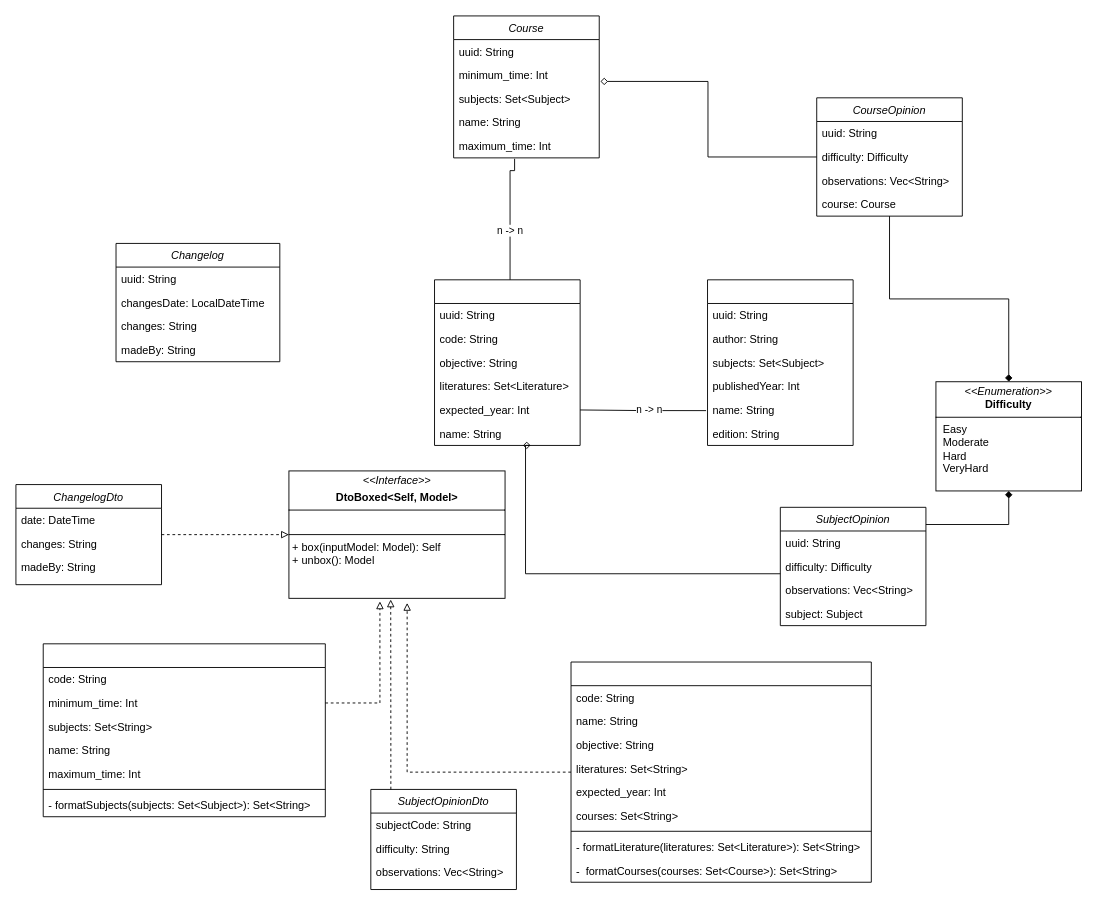
The diagram is 1097 pixels wide and 905 high, and some of its shapes have lost their labels. Here are the shapes that lost their labels. From the top down, the box of each, then its label:
(434, 279, 580, 445): Subject
(707, 279, 853, 445): Literature
(42, 643, 325, 817): CourseDto
(570, 661, 871, 882): SubjectDto
